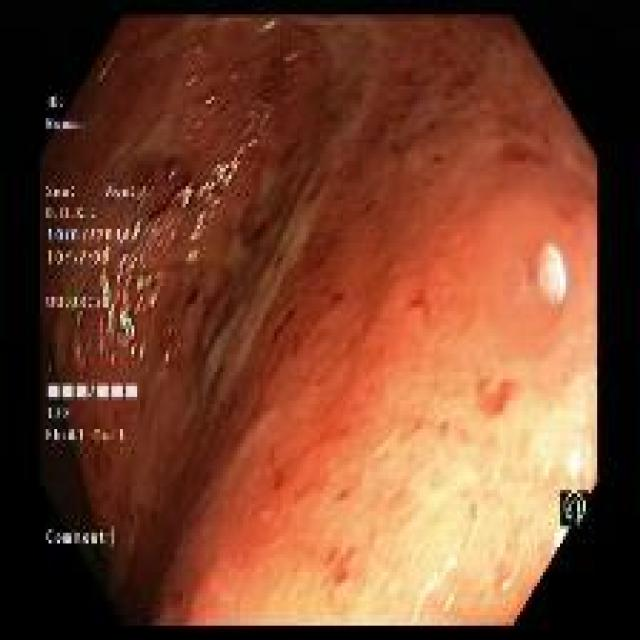ulcerative-colitis: (41, 17, 598, 623)
